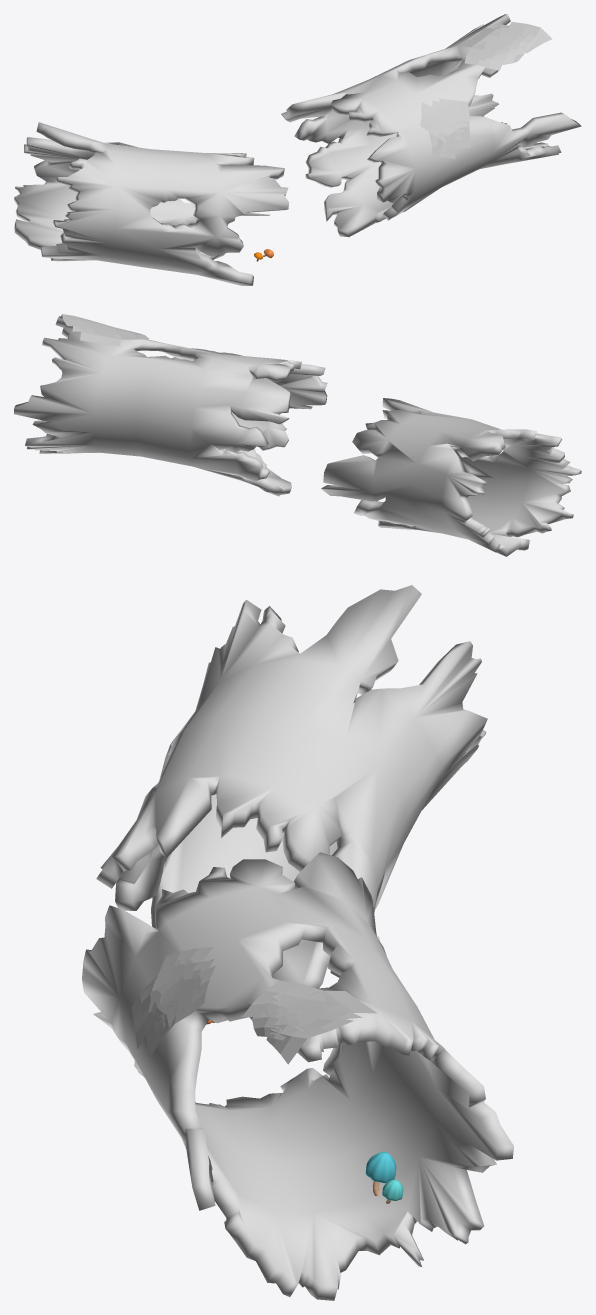
File: TreeTrunk2.fbx
3 renders of one model, top to bottom at view 1: azimuth 30°, elevation 25°; view 2: azimuth 150°, elevation 25°; view 3: azimuth 270°, elevation 25°, orthographic. The views are drawn at different scales.
Visible parts, largest first — view 1: Tree_1, Tree_2, ClusterLeaf.008, ClusterLeaf.009; view 2: Tree_2, Tree_1, ClusterLeaf.008; view 3: Tree_2, Tree_1, ClusterLeaf.008, ClusterLeaf.009, Mushroom1_TreeTrunk2.
Boxes of the visible parts, x1=… form: Tree_1: x1=14, y1=122, x2=288, y2=285; Tree_2: x1=281, y1=14, x2=581, y2=237; ClusterLeaf.008: x1=461, y1=22, x2=552, y2=70; ClusterLeaf.009: x1=420, y1=98, x2=471, y2=159; Tree_2: x1=14, y1=316, x2=327, y2=496; Tree_1: x1=321, y1=398, x2=581, y2=556; ClusterLeaf.008: x1=61, y1=314, x2=148, y2=346; Tree_2: x1=82, y1=852, x2=513, y2=1300; Tree_1: x1=96, y1=585, x2=487, y2=988; ClusterLeaf.008: x1=242, y1=980, x2=377, y2=1064; ClusterLeaf.009: x1=131, y1=947, x2=215, y2=1057; Mushroom1_TreeTrunk2: x1=365, y1=1151, x2=403, y2=1203.
Size of the model in its own units: 1017 by 289 by 372.
